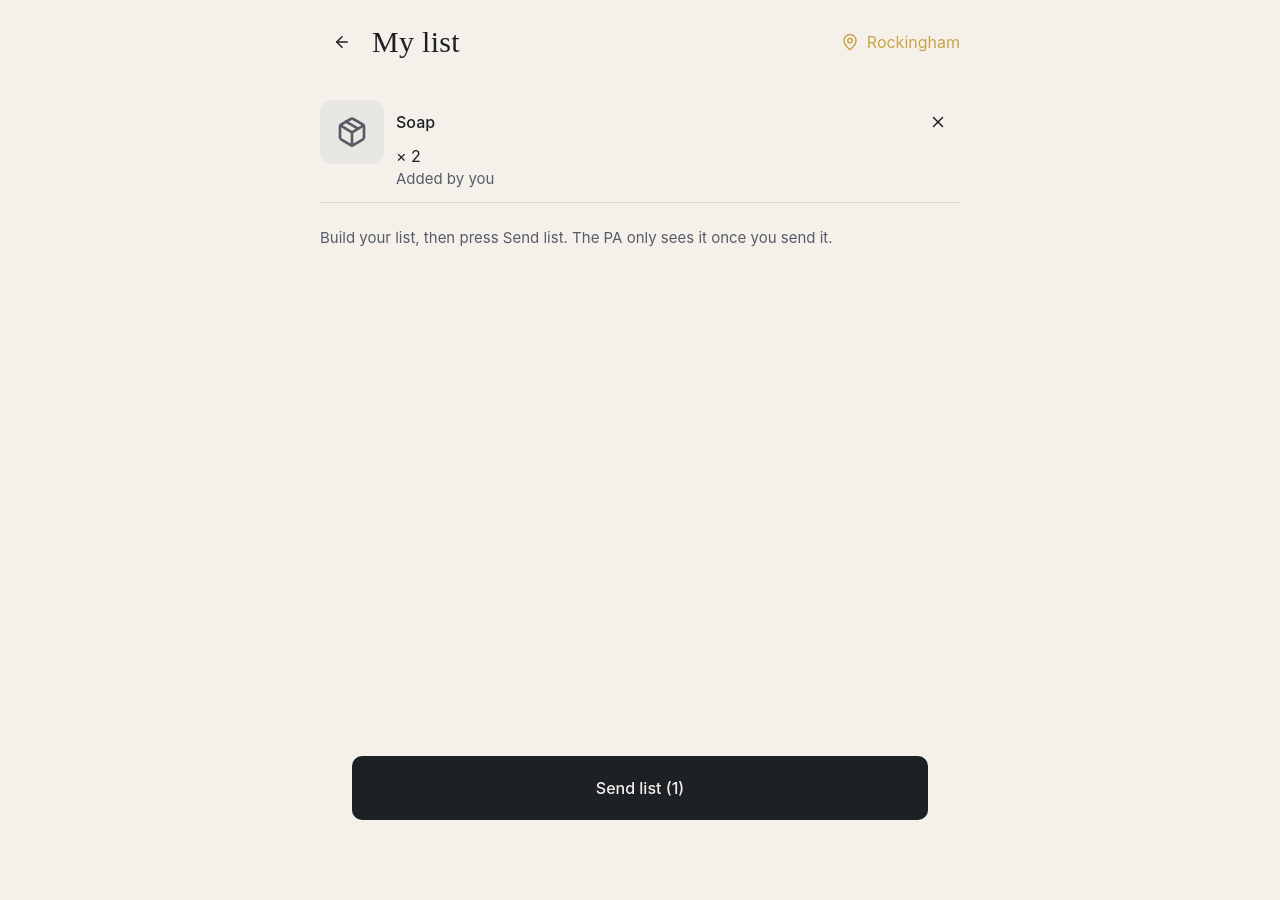
requester screens › confirm sends all drafts without ids and opens arrivals
Step 1. Click the button "Send list (1)" → (640, 788), box [352,756,928,820]
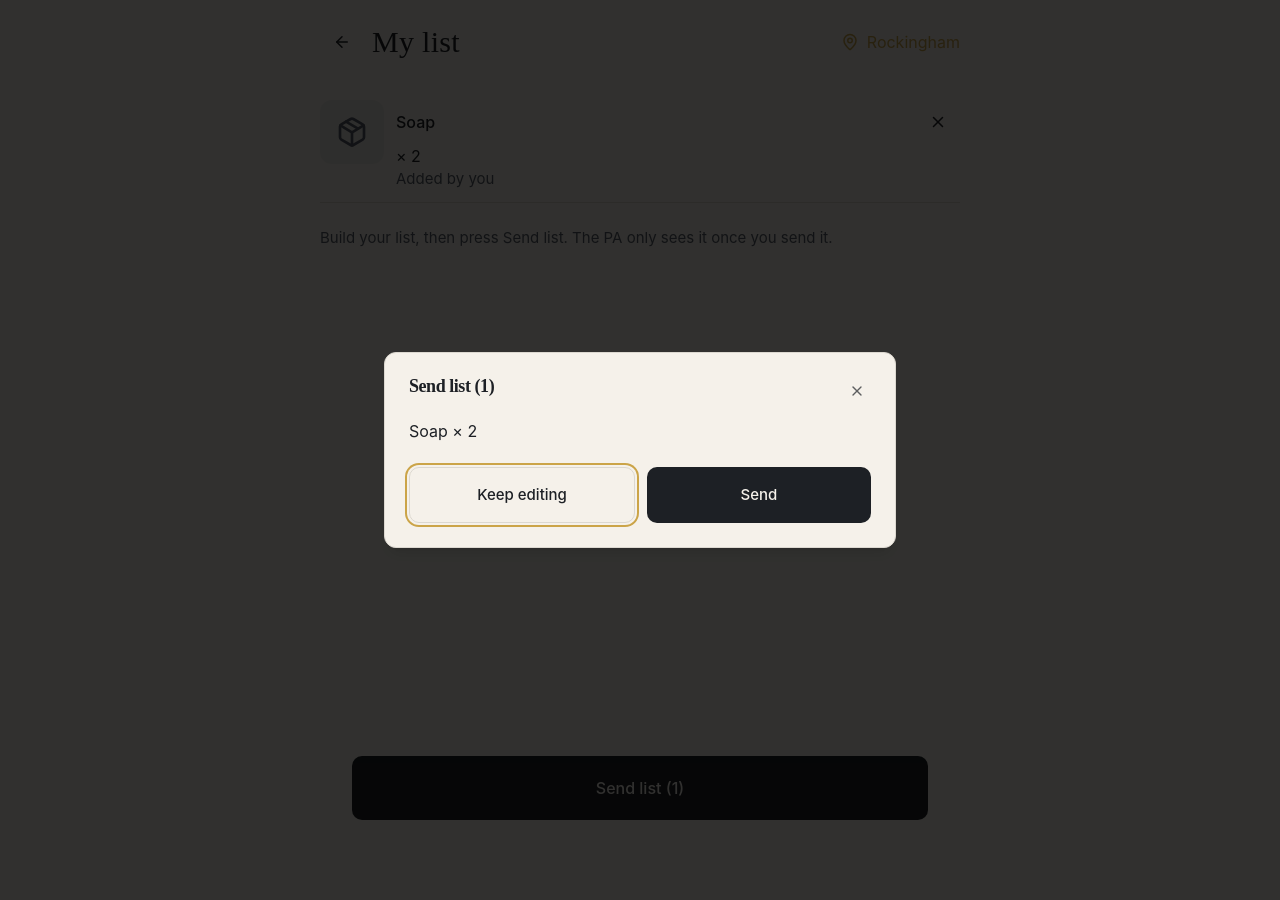
Now the button "Keep editing" is shown, box [409,467,635,523]
Step 2. Click the button "Send" → (759, 495), box [647,467,871,523]
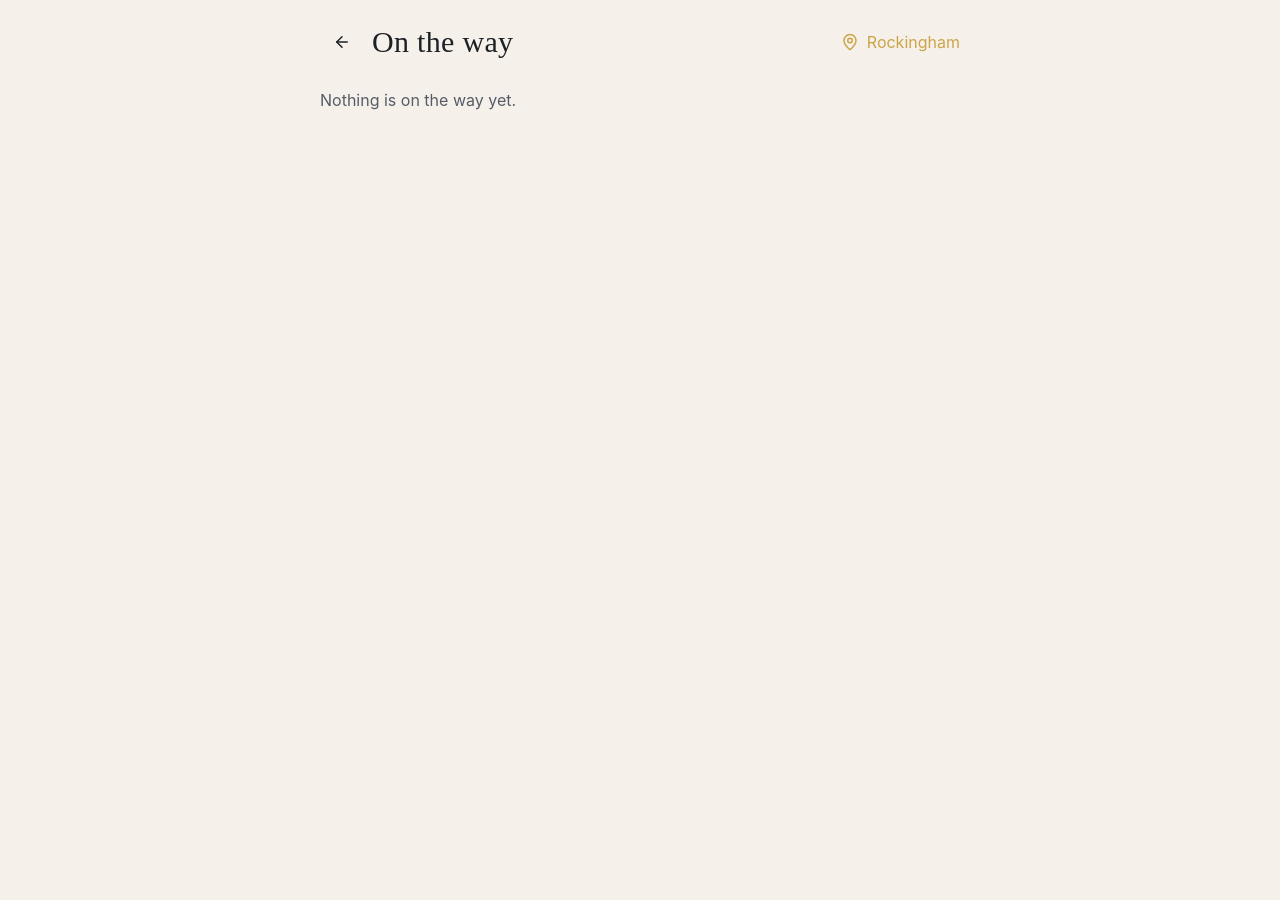
Now the heading "On the way" is shown, box [372,24,513,60]
